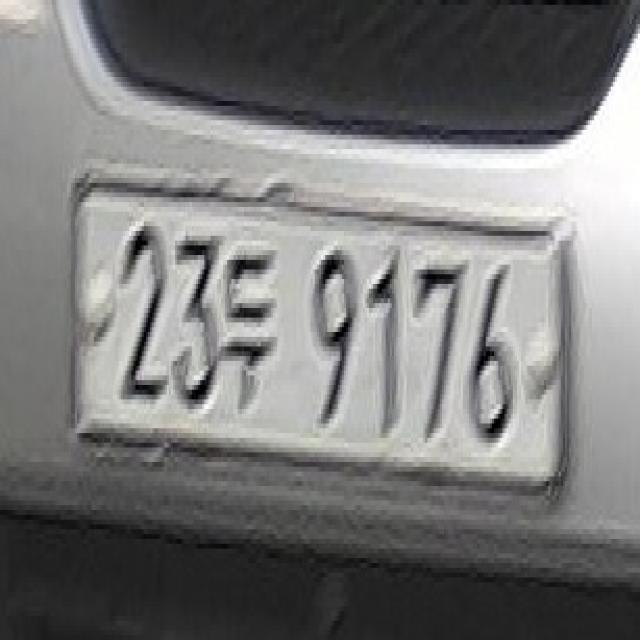1: (366, 237, 405, 442)
2: (116, 213, 169, 413)
3: (174, 215, 222, 418)
6: (470, 249, 521, 457)
7: (412, 240, 468, 451)
9: (305, 239, 362, 431)
du: (224, 231, 282, 420)
license_plate: (77, 180, 563, 491)
